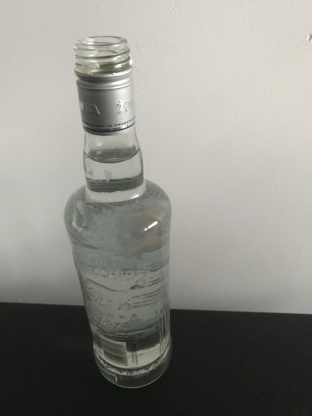nakretka: (71, 33, 136, 136)
